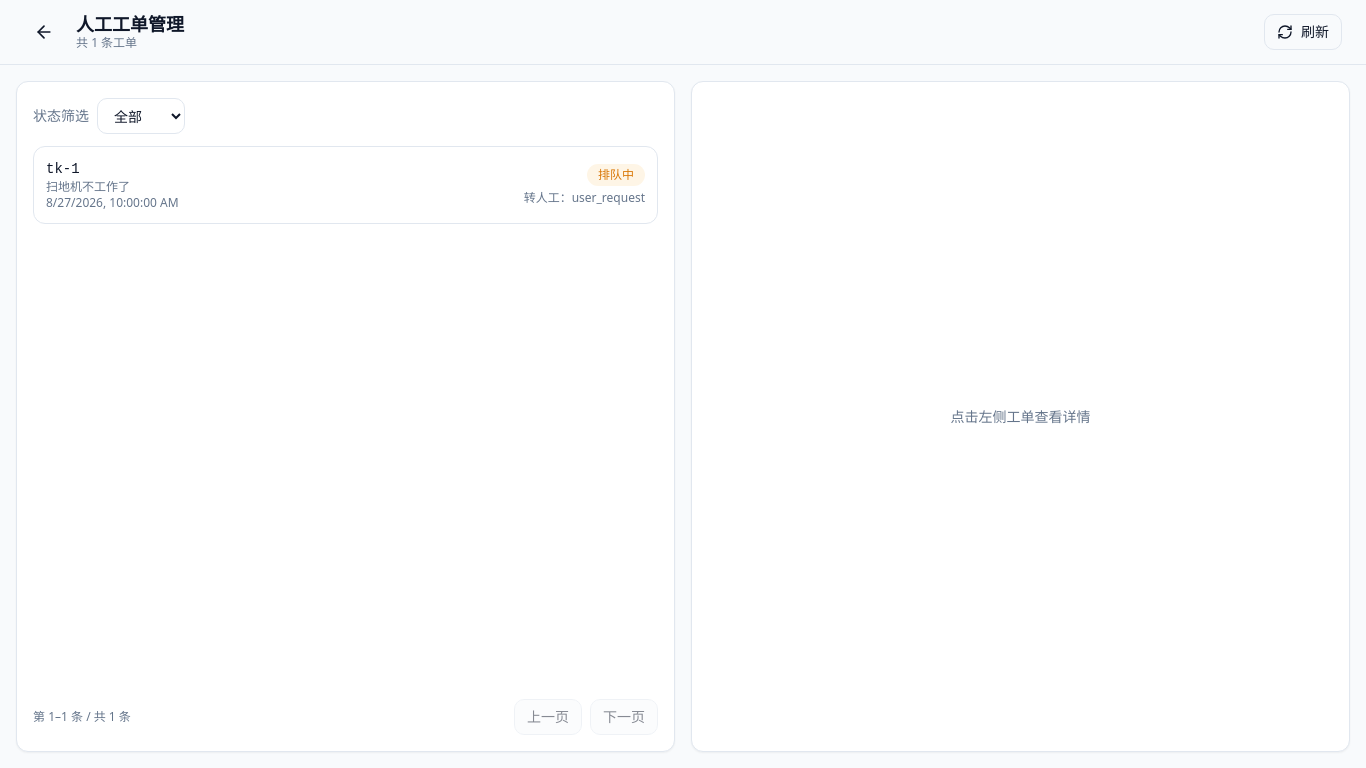
it: AdminHandoffs 管理端 › 上下文展示：RAG 来源、诊断结果、对话摘要渲染
Click the text "tk-1": (63, 169) [46,161,80,177]
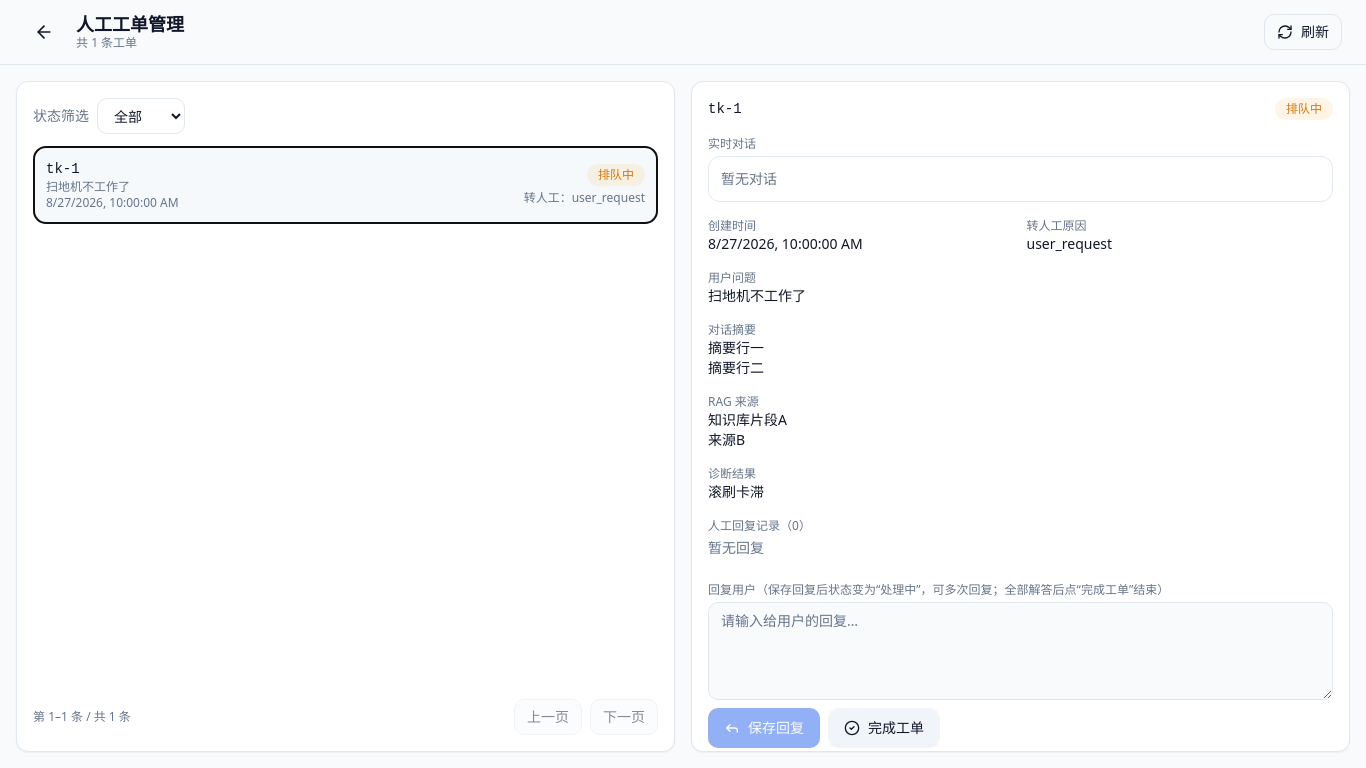
Expected: the text "摘要行一 摘要行二" is shown, [708,338,764,377]
Expected: the text "知识库片段A 来源B" is shown, [708,410,787,449]
Expected: the text "滚刷卡滞" is shown, [708,482,764,501]
